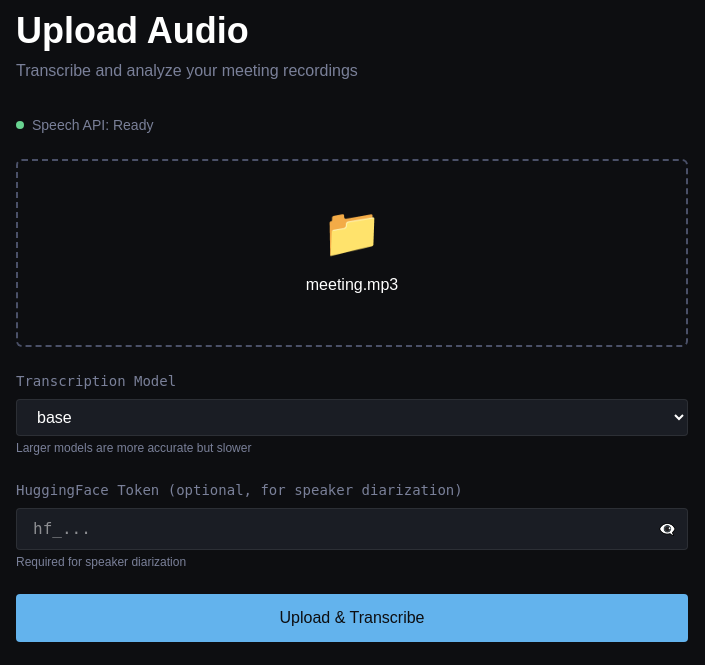
Test case: Upload page — file validation › shows API error when upload fails
Earlier steps of the test are not shown.
Expected: the text with test id "speech-api-status" shows "Ready", [113, 117, 154, 133]
Click the button with test id "upload-btn".
click(352, 618)  # box [16, 594, 688, 642]
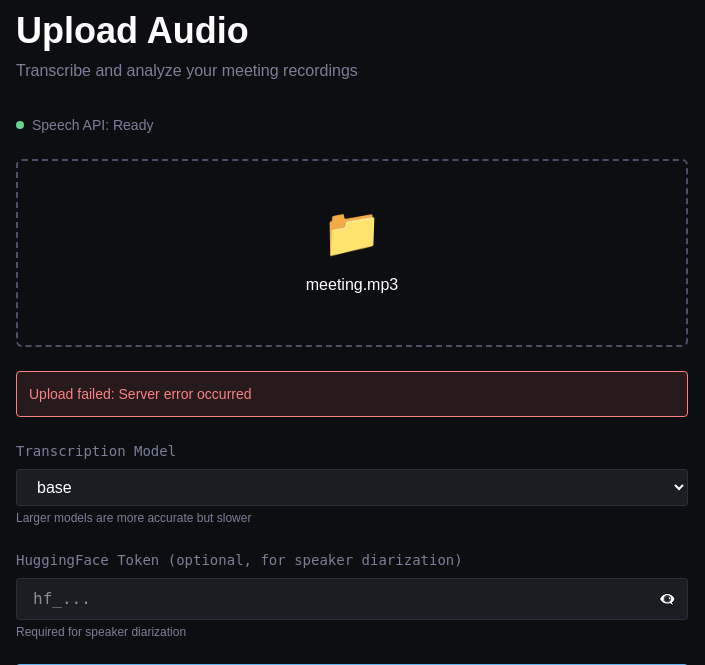
Expected: the message with test id "upload-error" shows "Server error", [29, 386, 252, 402]
